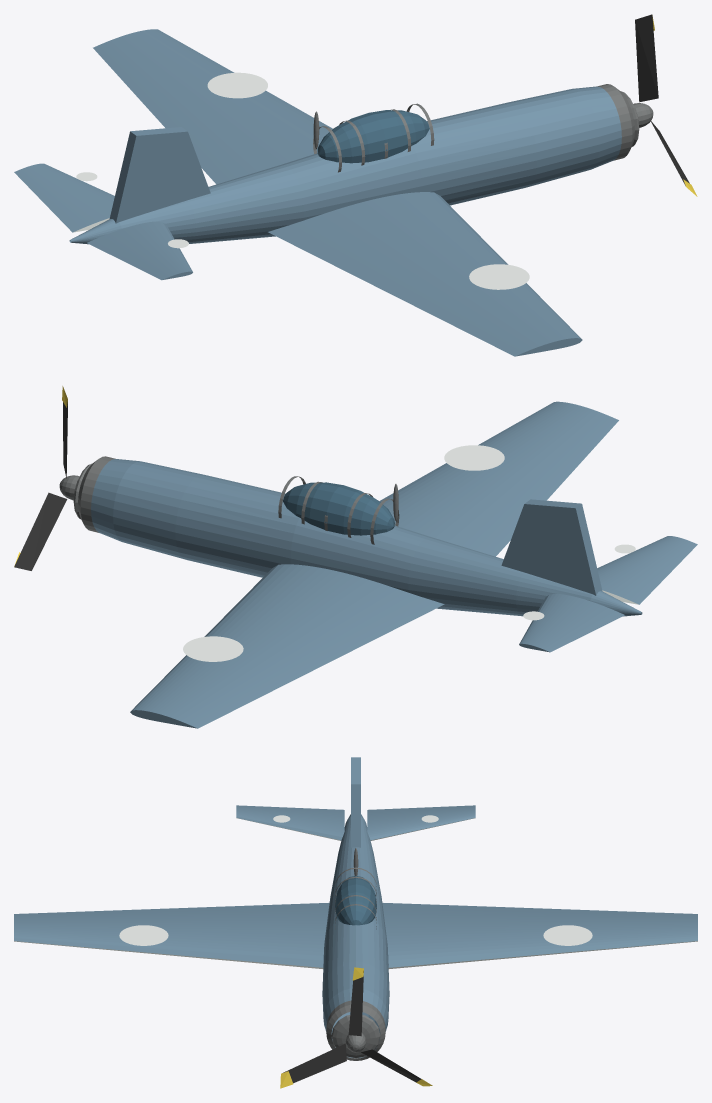
The model's file is a-fighter.glb.
3 views of the same model, one above another, from view 1: azimuth 30°, elevation 25°; view 2: azimuth 150°, elevation 25°; view 3: azimuth 270°, elevation 25° (orthographic). The views are drawn at different scales.
Parts seen in each view (by area): view 1: A fighter; view 2: A fighter; view 3: A fighter.
Part boxes in pixels (x1,y1,x2,y2): A fighter: (14, 14, 697, 356); A fighter: (14, 386, 697, 728); A fighter: (14, 757, 697, 1088).
Size of the model in its own units: 9.59 by 2.49 by 12.
